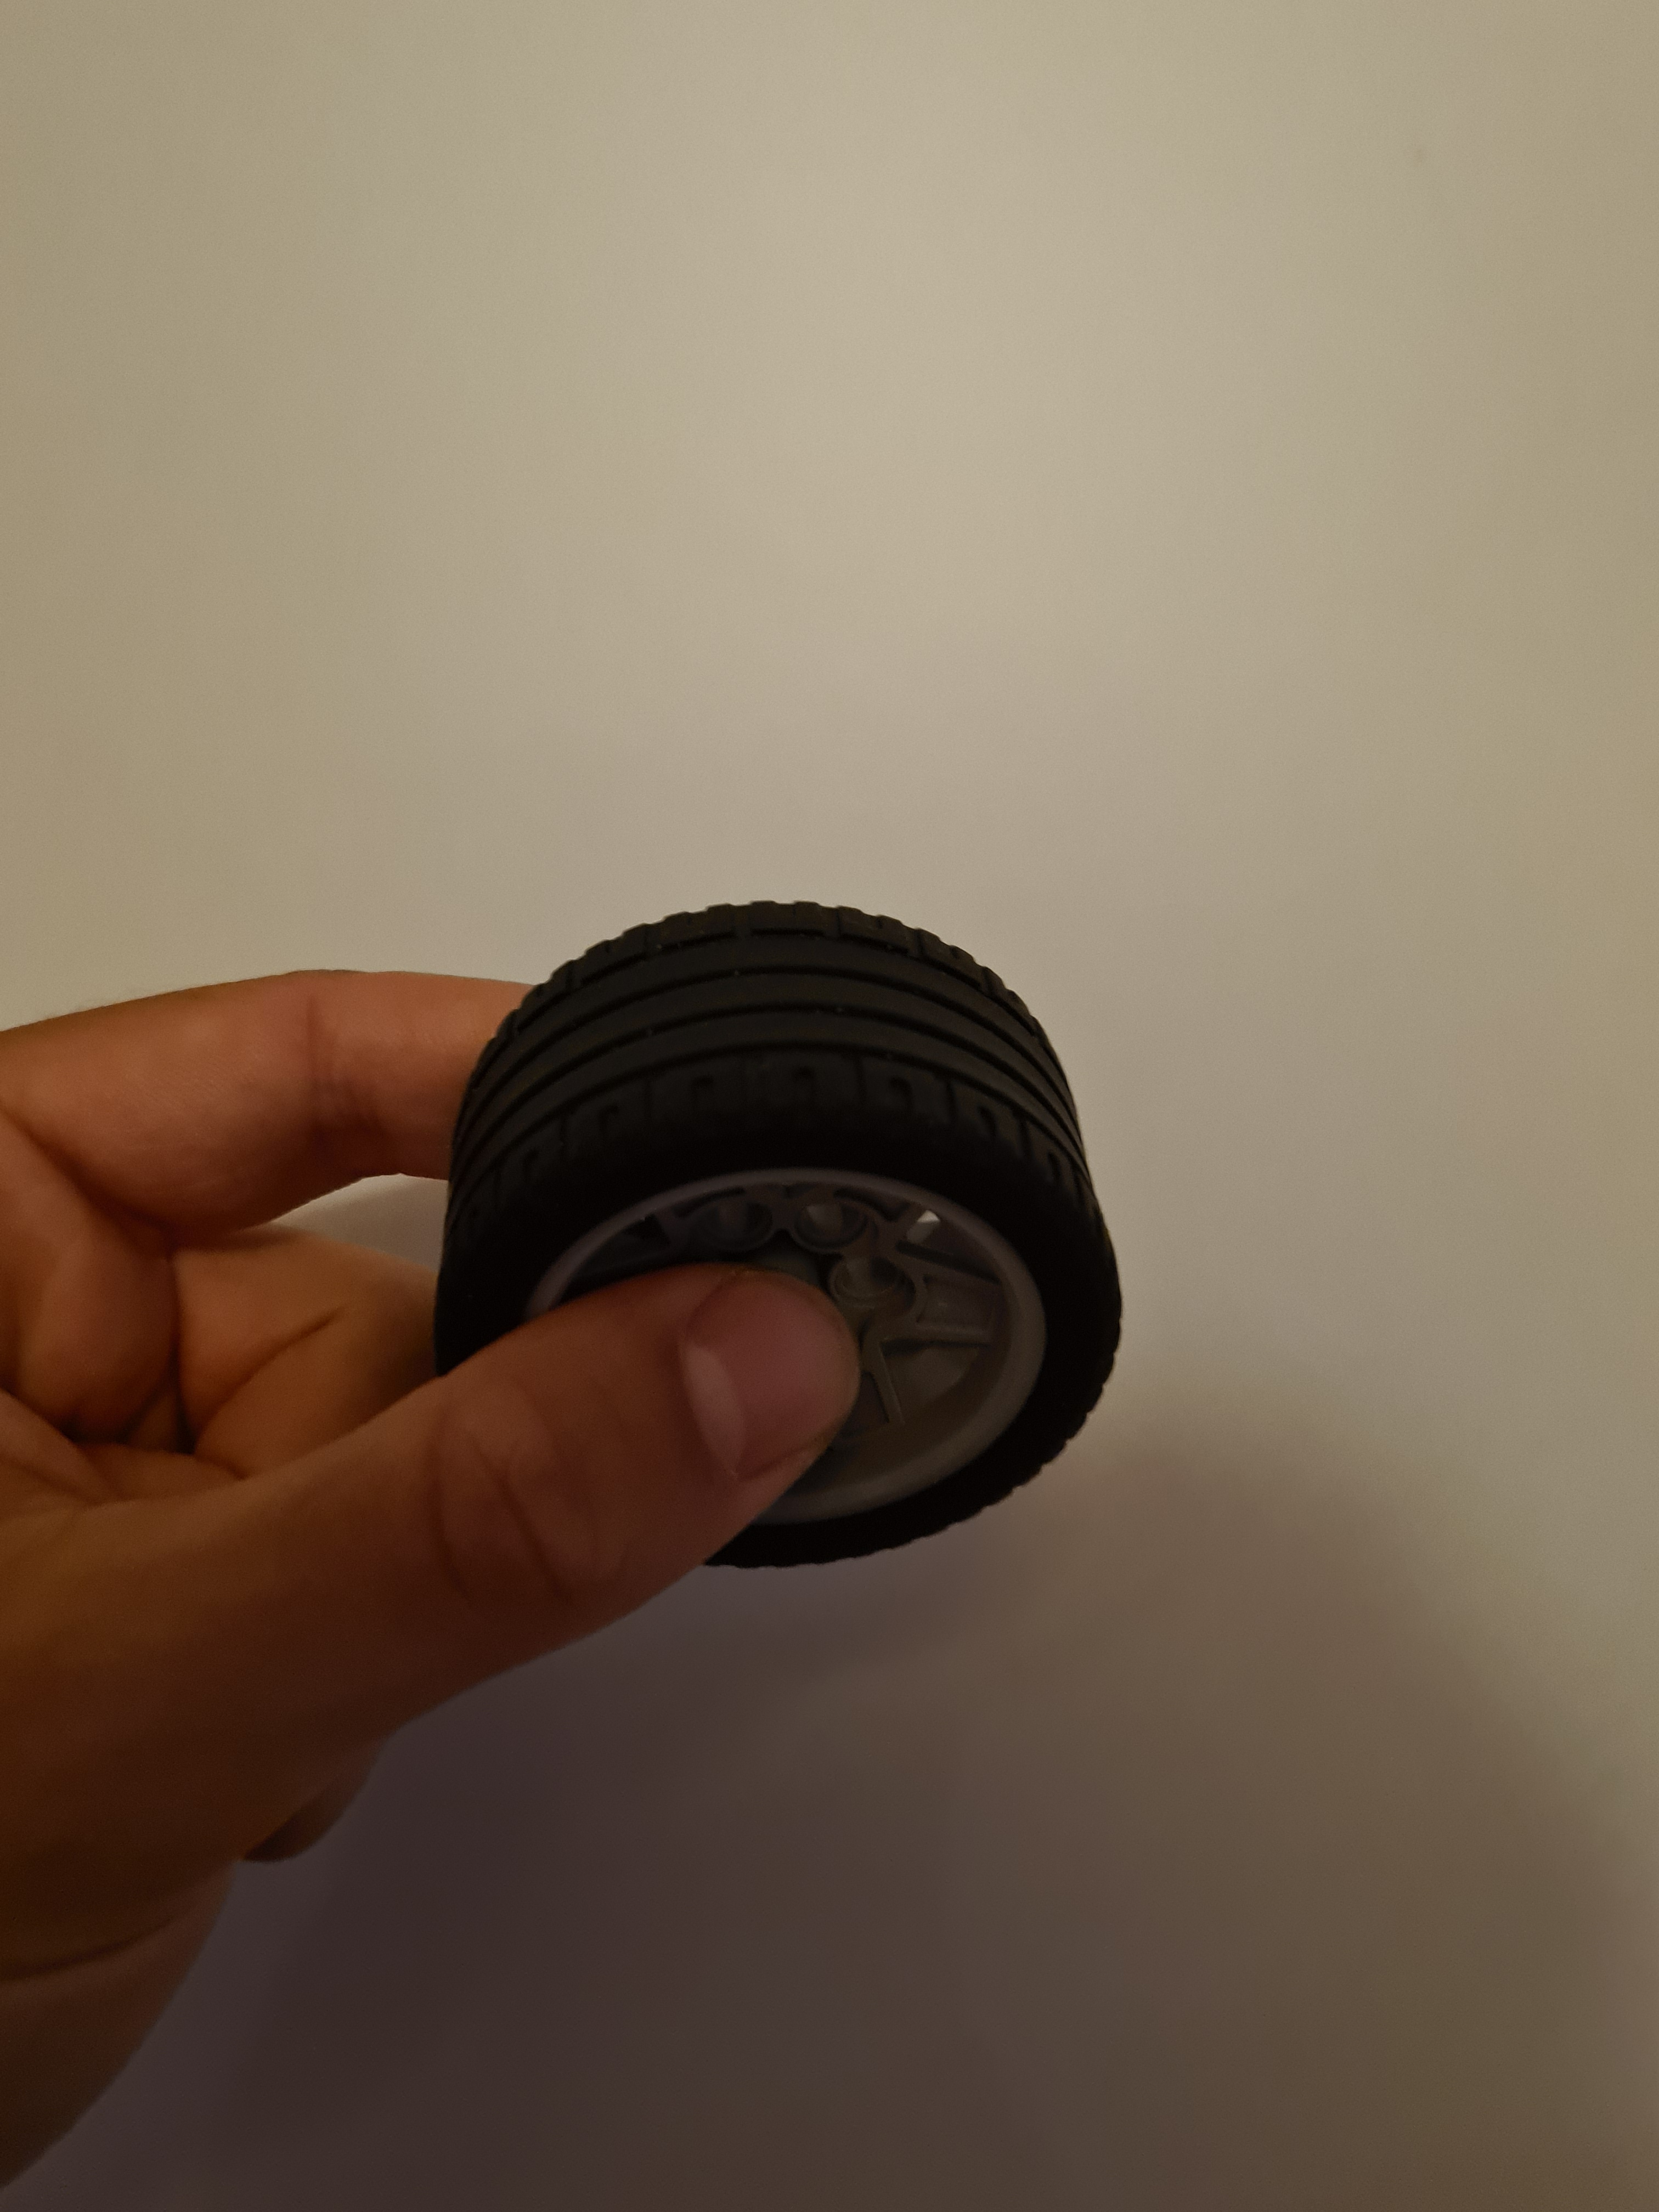Rad: (403, 880, 1147, 1588)
